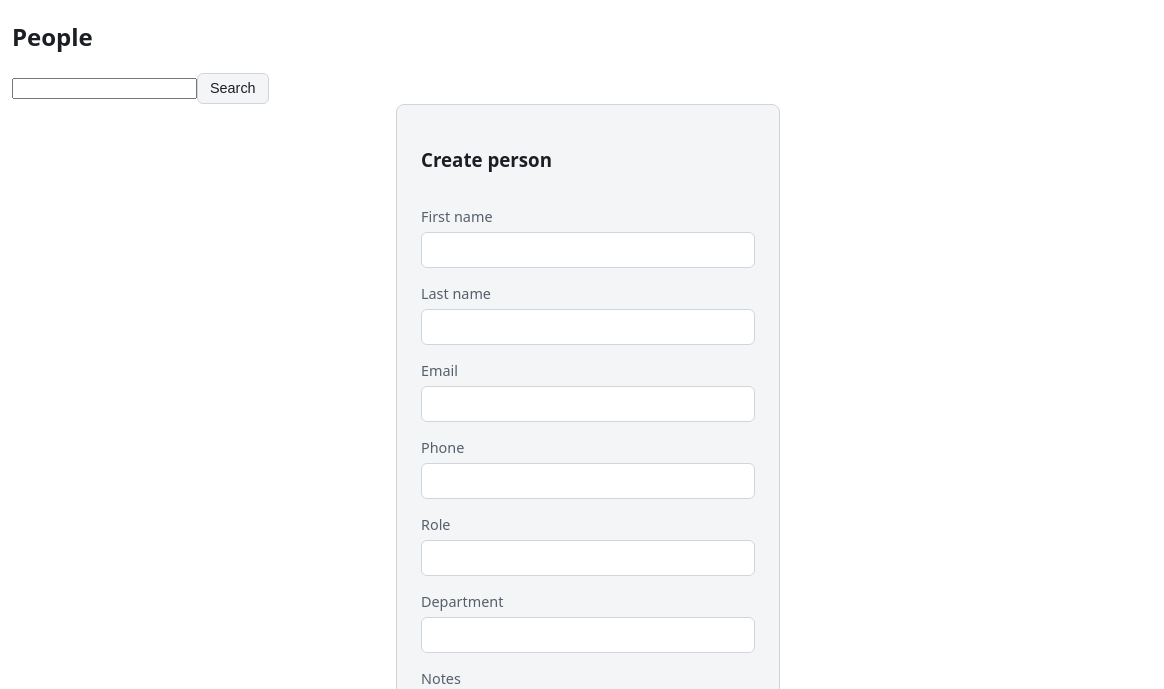
Test: PeoplePage › shows the server error inline when creating a person fails
The image size is (1164, 689).
Type "Grace" into the field labelled "First name".
click(588, 250); type("Grace")  # box [421,232,755,268]
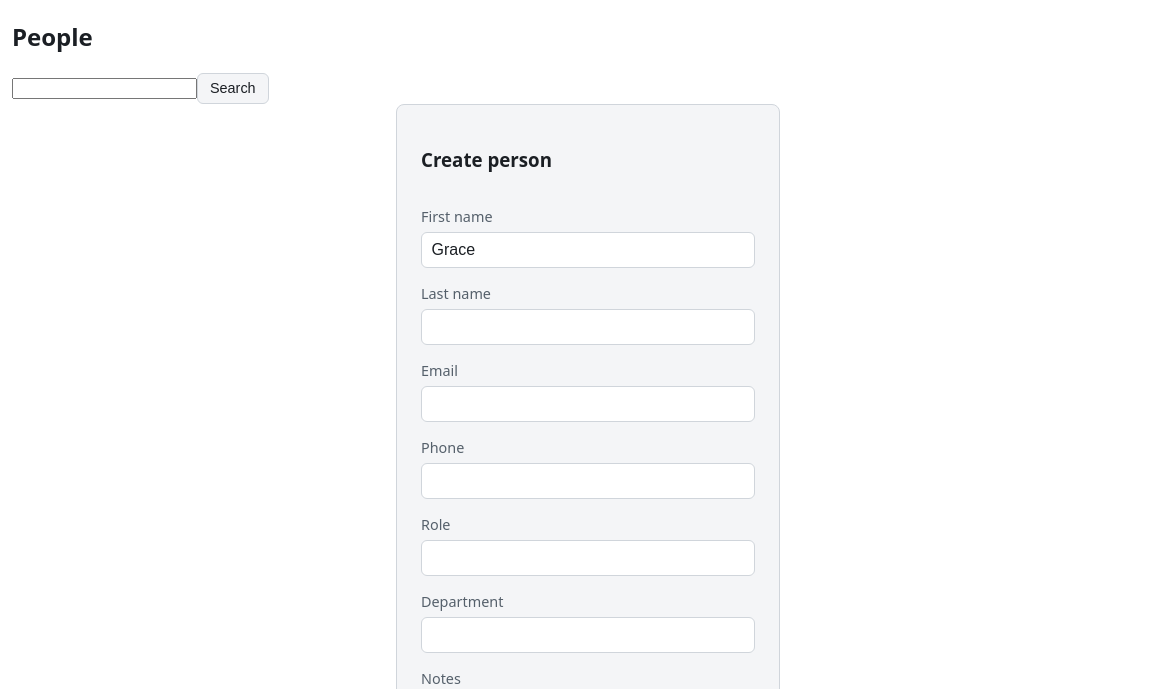
Type "Hopper" into the field labelled "Last name".
click(588, 327); type("Hopper")  # box [421,309,755,345]
(page scrolled)
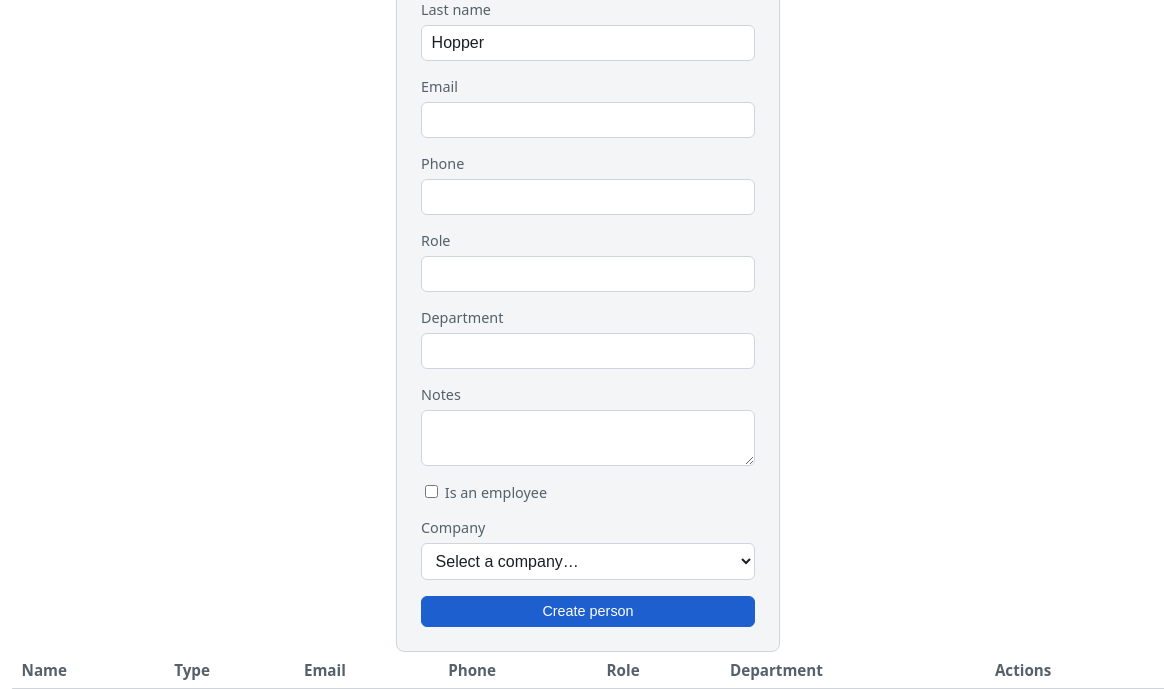
Select "Acme Ltd" in the dropdown labelled "Company" at (588, 562), box [421,543,755,580]
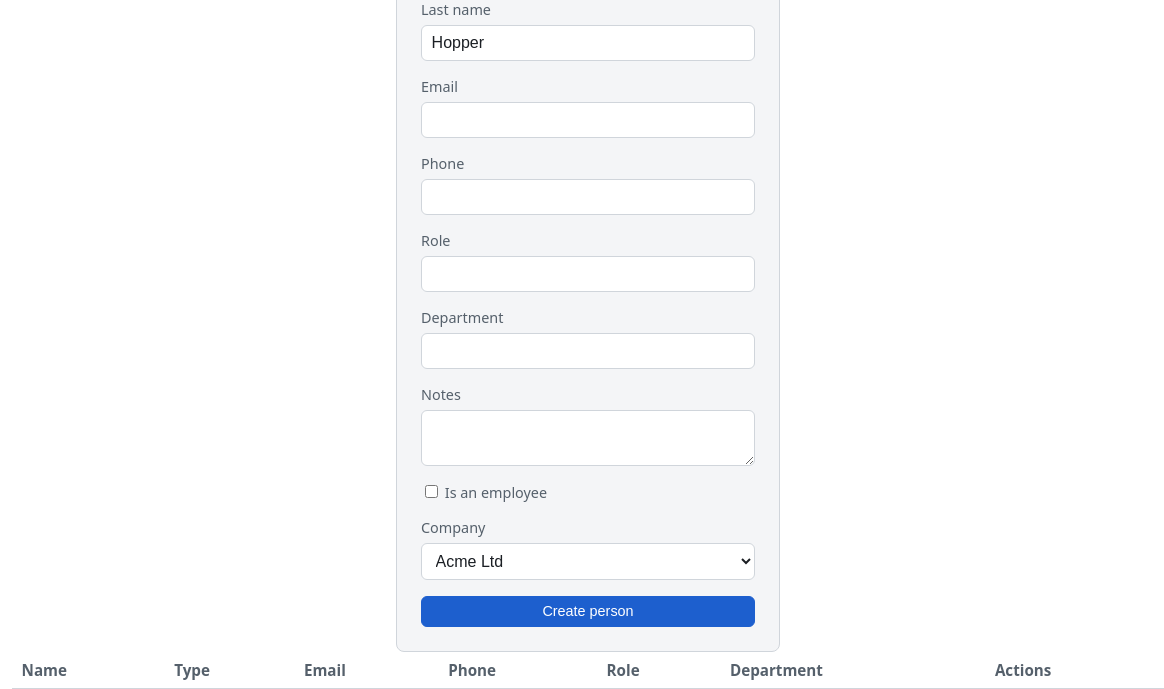
Click the button "Create person".
click(588, 611)  # box [421,596,755,627]
(page scrolled)
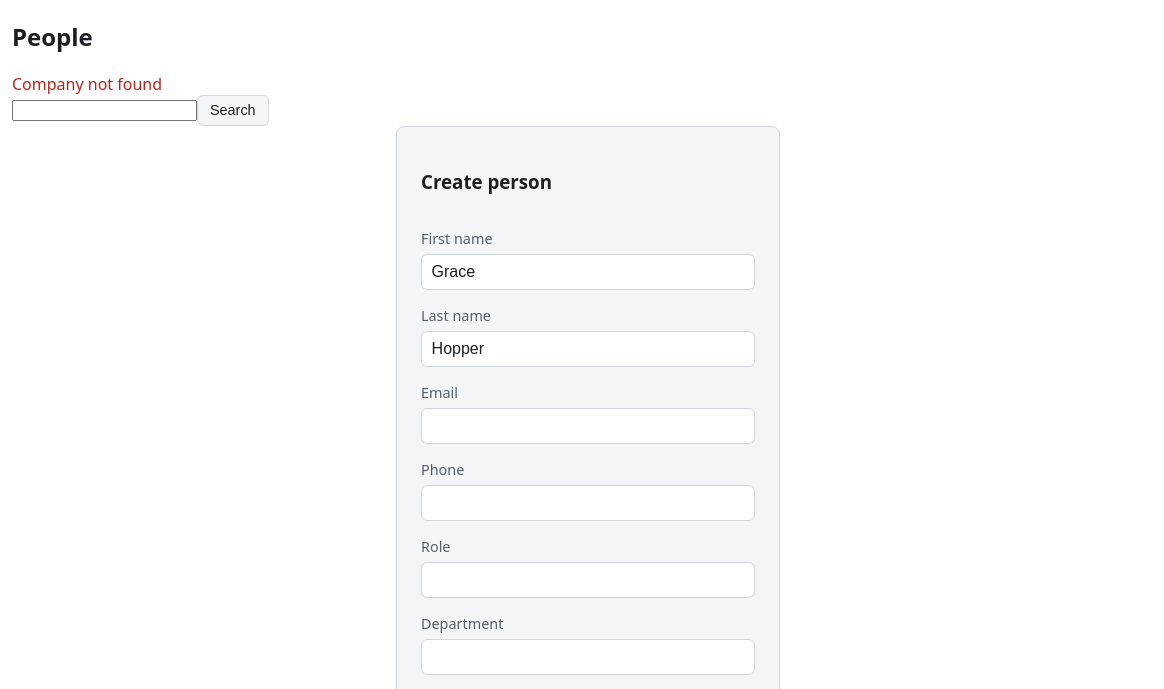
Check: the message reads "Company not found", box [12,73,162,95]
